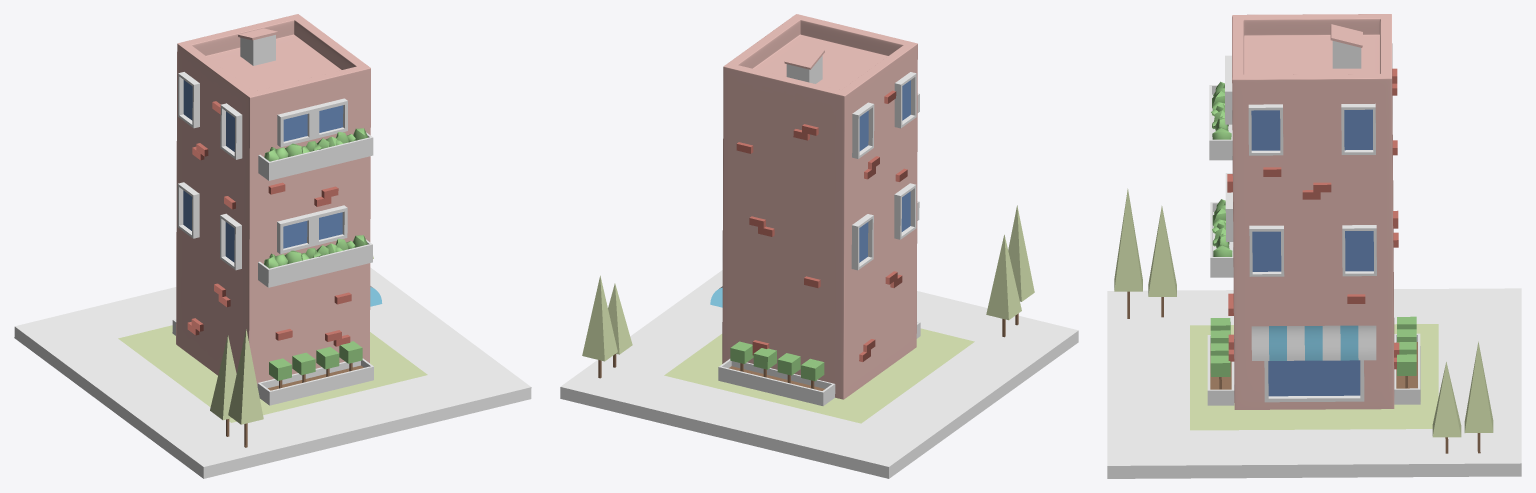
The model's file is lowpoly_building.glb.
3 renders of one model, left to right at view 1: azimuth 30°, elevation 25°; view 2: azimuth 150°, elevation 25°; view 3: azimuth 270°, elevation 25°, orthographic. The views are drawn at different scales.
Visible parts, largest first — view 1: Mesh_0.001; view 2: Mesh_0.001; view 3: Mesh_0.001.
Part boxes in pixels (x1=…): Mesh_0.001: x1=14, y1=14, x2=531, y2=478; Mesh_0.001: x1=560, y1=14, x2=1078, y2=478; Mesh_0.001: x1=1107, y1=14, x2=1521, y2=478.
Bounding box in the file's own units: 19.1 × 18.34 × 19.11.
